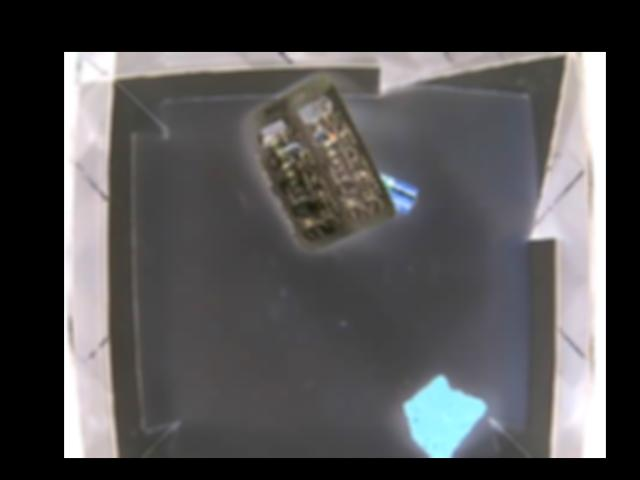Battery: (375, 172, 418, 216)
Brisk: (403, 372, 487, 457)
Medicine: (247, 75, 395, 248)
